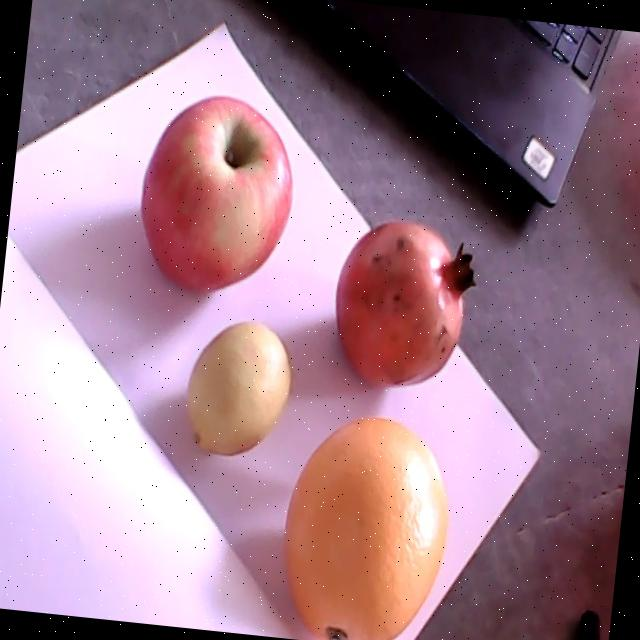apple: (139, 96, 290, 296)
lemon: (185, 317, 291, 453)
orange: (284, 416, 448, 640)
pomegranate: (337, 217, 479, 388)
